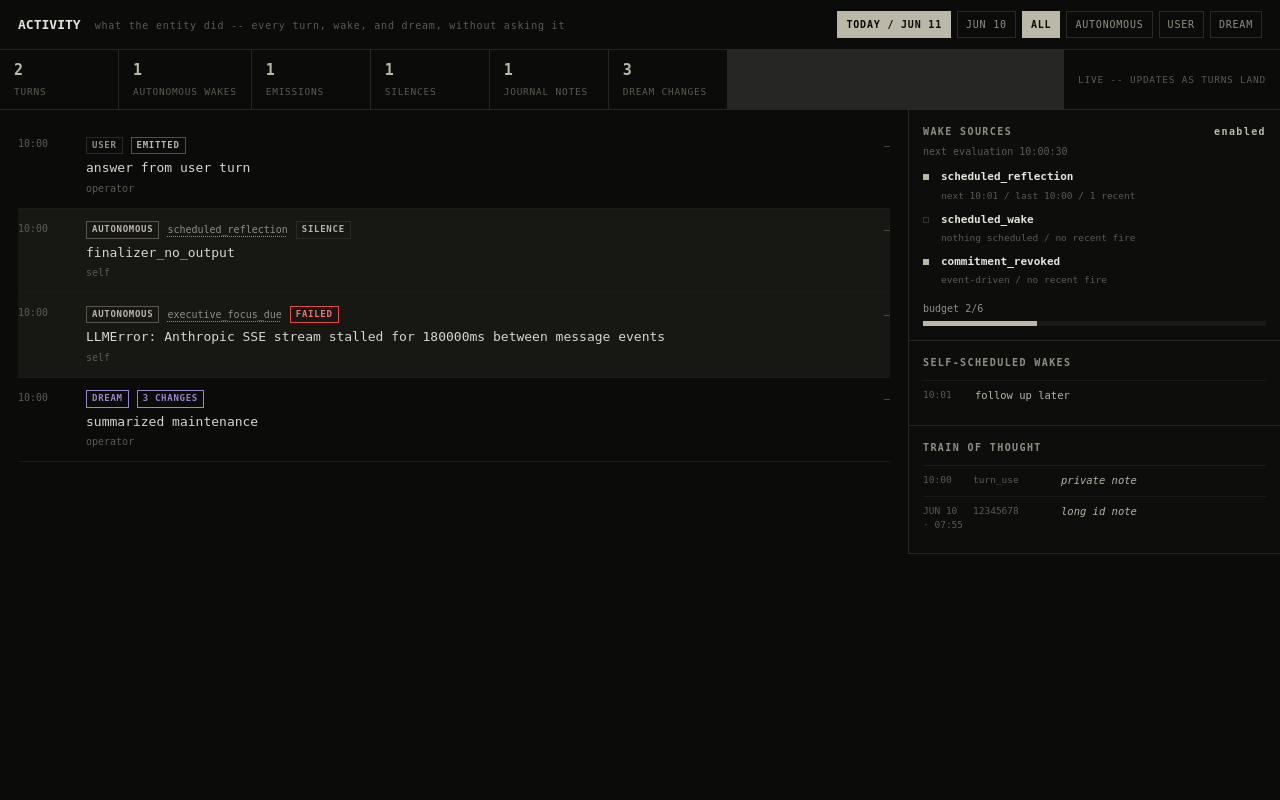
Test case: ActivityPage › fetches row details lazily on expand and renders journal notes for the turn
The image size is (1280, 800).
What coordinates should you click on to do the following:
click the text "answer from user turn"
I would click on:
 (168, 168)
Its box is left=86, top=160, right=250, bottom=175.
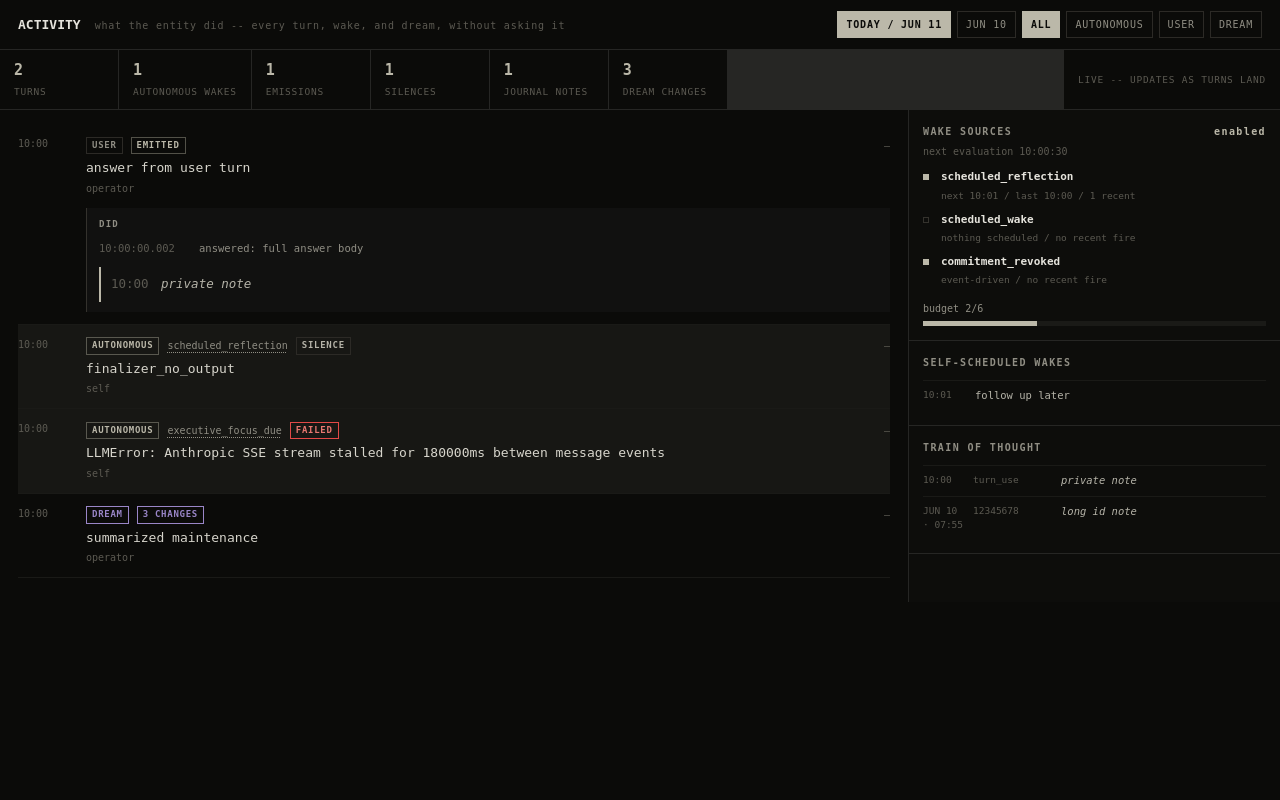
Expected: the text "answered: full answer body" is shown, left=199, top=242, right=363, bottom=254
